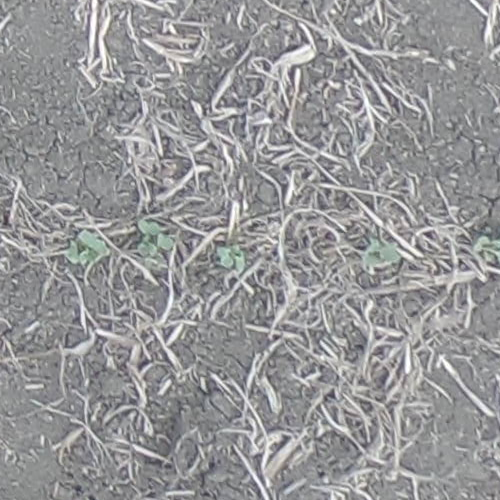isolated: (66, 228, 112, 269), (137, 221, 172, 258), (366, 238, 399, 267), (471, 235, 499, 265), (219, 243, 243, 272)
